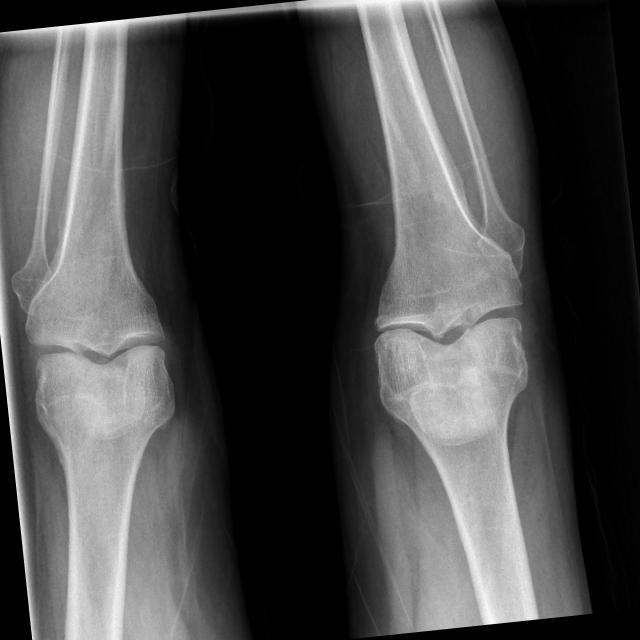Knee: (363, 254, 533, 396), (22, 284, 170, 412)
